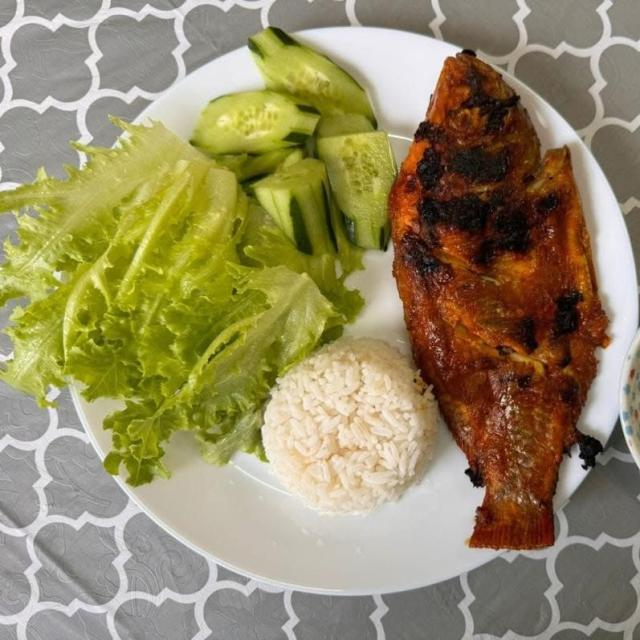Fish: (389, 54, 601, 548)
Plate: (393, 53, 606, 546)
Rice: (259, 340, 440, 514)
Vegetables: (0, 25, 395, 488)
